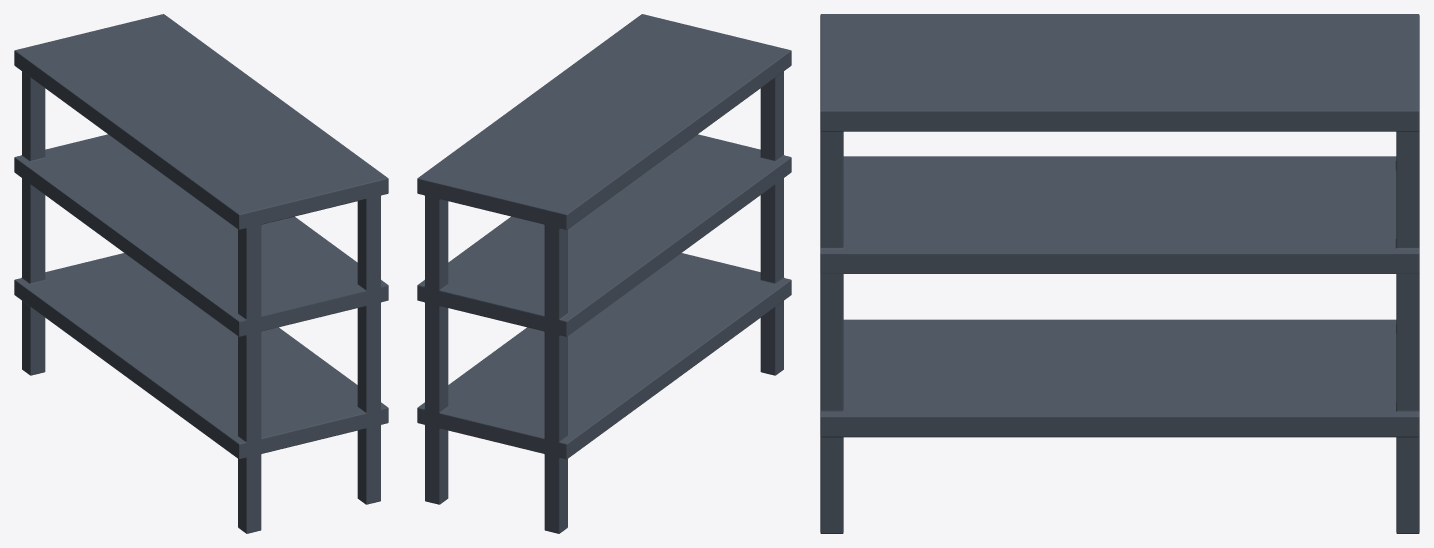
Rendered from metallreagl.obj.
3 renders of one model, left to right at view 1: azimuth 30°, elevation 25°; view 2: azimuth 150°, elevation 25°; view 3: azimuth 270°, elevation 25°, orthographic. The views are drawn at different scales.
Parts seen in each view (by area): view 1: 280310_23_05_23_08_02_34_0; view 2: 280310_23_05_23_08_02_34_0; view 3: 280310_23_05_23_08_02_34_0.
Boxes of the visible parts, bbox=[...] form: 280310_23_05_23_08_02_34_0: bbox=[14, 14, 388, 533]; 280310_23_05_23_08_02_34_0: bbox=[417, 14, 791, 533]; 280310_23_05_23_08_02_34_0: bbox=[820, 14, 1419, 533].
Bounding box in the file's own units: 4 × 8.2 × 10.4.
